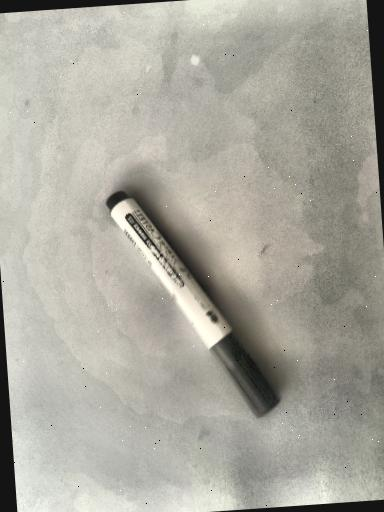marcador negro: (107, 191, 280, 414)
